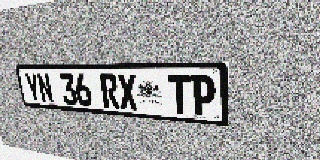3: (59, 74, 78, 105)
6: (73, 74, 93, 107)
N: (36, 73, 54, 103)
P: (191, 75, 215, 117)
R: (99, 74, 120, 109)
T: (168, 74, 191, 115)
X: (117, 74, 138, 110)
Y: (24, 73, 42, 102)
